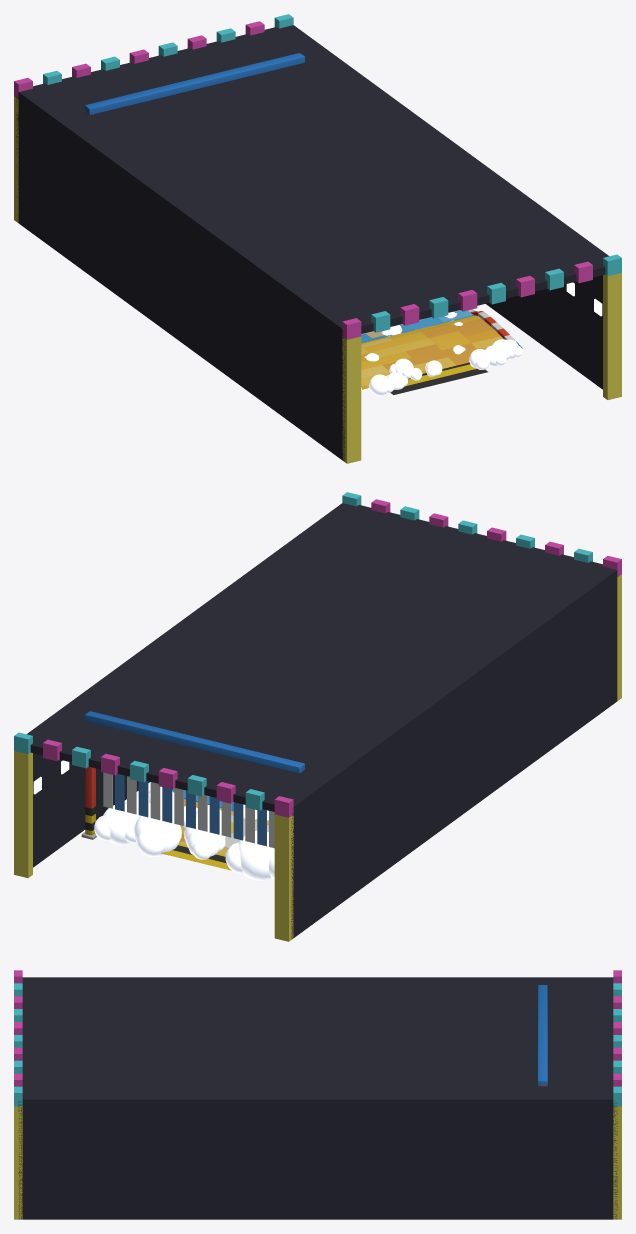
The model's file is props.glb.
The picture shows the model from 3 angles, top to bottom: view 1: azimuth 30°, elevation 25°; view 2: azimuth 150°, elevation 25°; view 3: azimuth 270°, elevation 25°; orthographic projection. The views are drawn at different scales.
Parts seen in each view (by area): view 1: tunnel, splash, foam_suds, foam, ramp, splash_water; view 2: tunnel, foam, foam_suds, ramp; view 3: tunnel, foam.
Part boxes in pixels (bbox=[...]): tunnel: bbox=[14, 14, 621, 463]; splash: bbox=[361, 309, 522, 389]; foam_suds: bbox=[361, 311, 522, 395]; foam: bbox=[84, 53, 304, 114]; ramp: bbox=[361, 319, 487, 394]; splash_water: bbox=[361, 310, 473, 342]; tunnel: bbox=[14, 492, 621, 941]; foam: bbox=[81, 711, 304, 848]; foam_suds: bbox=[94, 786, 274, 880]; ramp: bbox=[161, 802, 233, 870]; tunnel: bbox=[14, 970, 621, 1219]; foam: bbox=[537, 985, 547, 1086].
Bounding box in the file's own units: 11.6 × 5.6 × 24.35.
